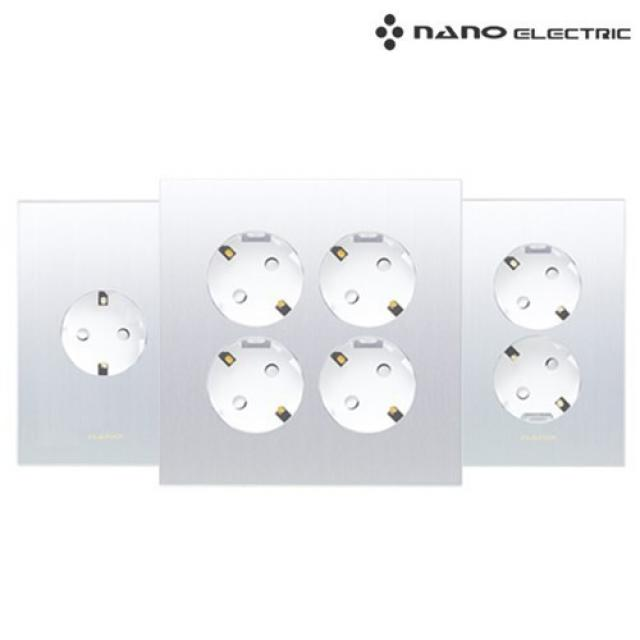typeb: (147, 159, 480, 505), (434, 187, 630, 483), (17, 189, 189, 511)
